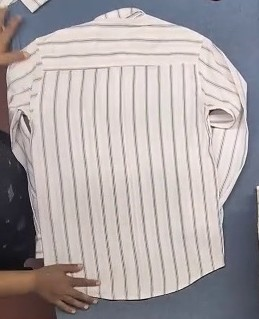SHIRT: (12, 42, 257, 280)
